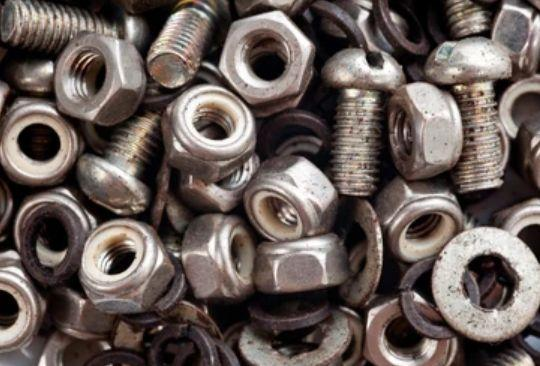metal: (428, 38, 513, 191), (430, 225, 540, 342), (322, 48, 404, 193), (218, 12, 317, 113), (77, 218, 178, 314), (164, 81, 258, 173), (56, 33, 145, 126), (245, 155, 339, 241), (13, 188, 96, 283), (375, 178, 463, 264), (388, 82, 463, 182), (179, 214, 262, 302), (236, 307, 357, 366), (0, 100, 79, 187), (148, 3, 224, 90), (362, 297, 454, 366), (2, 1, 114, 54), (252, 234, 349, 295), (396, 255, 463, 338), (334, 197, 385, 306), (77, 154, 155, 216), (317, 0, 403, 56), (425, 36, 512, 85), (1, 260, 45, 353), (254, 108, 328, 162), (47, 287, 118, 341), (154, 321, 239, 366), (322, 47, 405, 92), (491, 2, 539, 73), (496, 198, 540, 263), (4, 55, 57, 97), (442, 1, 493, 39)
